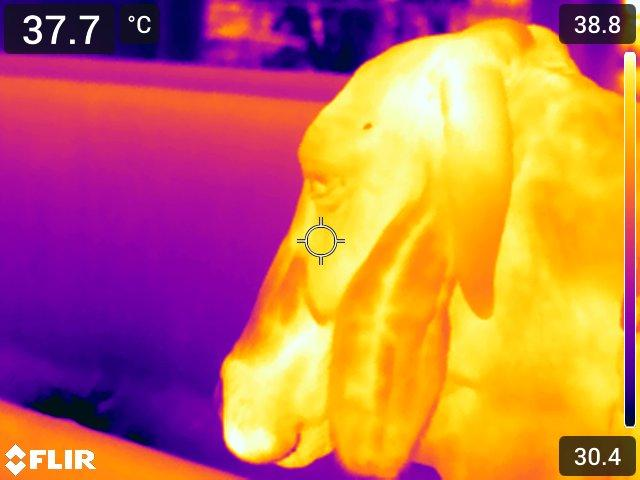ear: (338, 204, 453, 478)
eyes: (299, 158, 356, 217)
